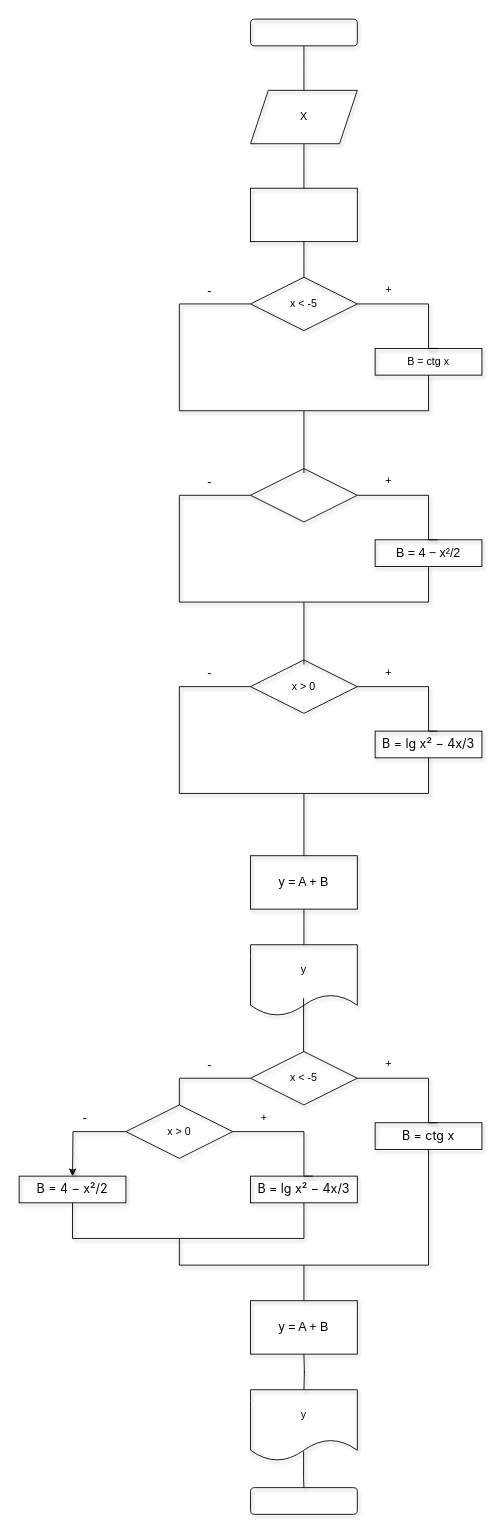
The diagram is 503 pixels wide and 1536 high, and some of its shapes have lost their labels. The shapes that lost their labels are listed below. From the top down, each one's centre as x and y in pixels, then its label:
At point (304, 33): "Початок".
At point (304, 216): "A = x² + sin(4x/3)".
At point (304, 496): "-5 ≤ x ≤ 0".
At point (304, 1502): "Кінець".
